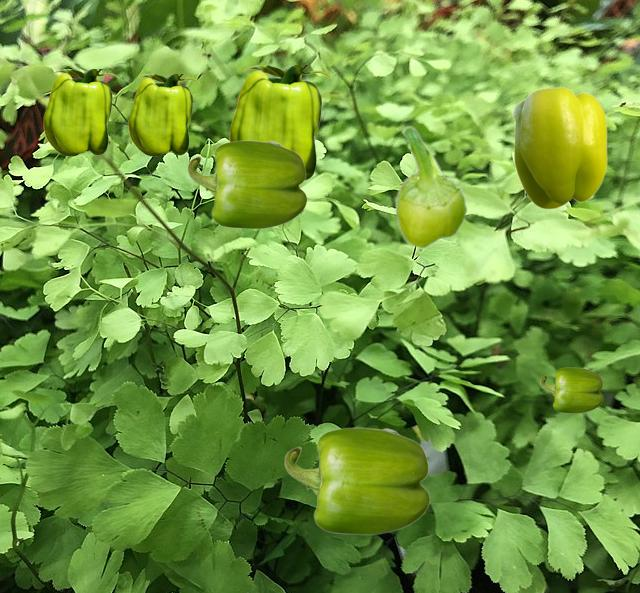bell_pepper: (284, 427, 429, 534), (229, 65, 330, 181), (512, 86, 606, 208), (187, 140, 306, 228), (394, 126, 467, 248), (43, 69, 118, 155), (128, 74, 198, 155), (540, 367, 602, 412)
